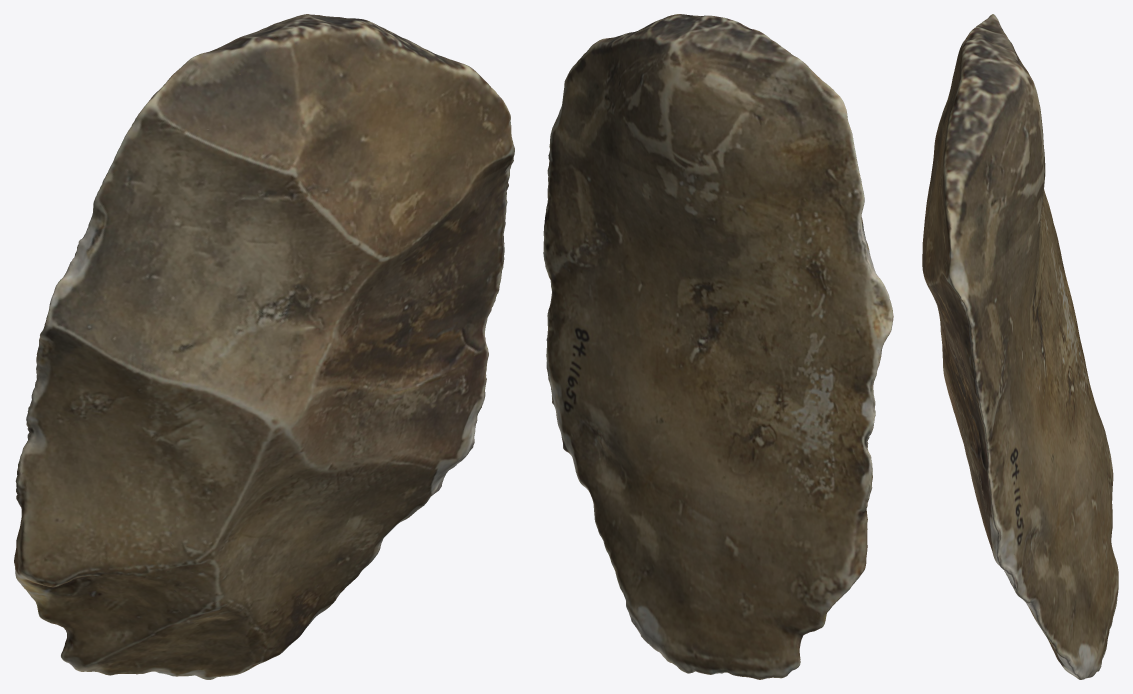
3 views of the same model, side by side, from view 1: azimuth 30°, elevation 25°; view 2: azimuth 150°, elevation 25°; view 3: azimuth 270°, elevation 25° (orthographic). The views are drawn at different scales.
Parts seen in each view (by area): view 1: Node; view 2: Node; view 3: Node.
Boxes of the visible parts, x1,y1,x2,y2 form: Node: [14, 14, 514, 679]; Node: [543, 14, 893, 679]; Node: [922, 14, 1118, 679].
Size of the model in its own units: 2.07 by 3.18 by 0.8886.
Materials: 1 (1 with a texture image).
